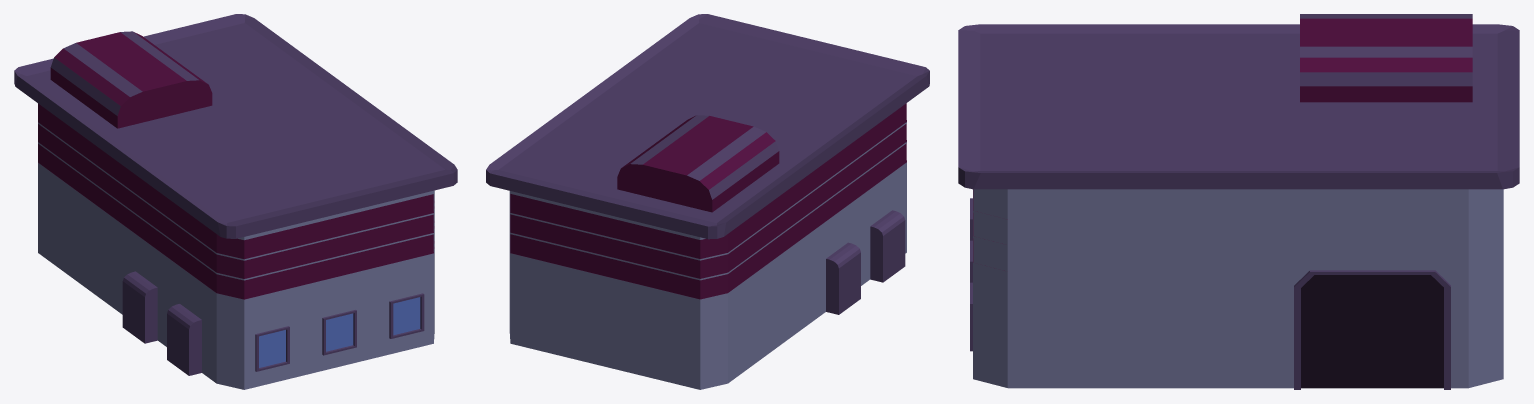
The model's file is Edificio.fbx.
The picture shows the model from 3 angles, left to right: view 1: azimuth 30°, elevation 25°; view 2: azimuth 150°, elevation 25°; view 3: azimuth 270°, elevation 25°; orthographic projection. The views are drawn at different scales.
Visible parts, largest first — view 1: Edificio, Cristal.001; view 2: Edificio; view 3: Edificio.
Part boxes in pixels (box(x1,y1,x2,y2)): Edificio: box(14, 14, 457, 389); Cristal.001: box(259, 297, 420, 367); Edificio: box(486, 14, 929, 389); Edificio: box(958, 14, 1519, 389).
Bounding box in the file's own units: 1095 × 868 × 1717.
